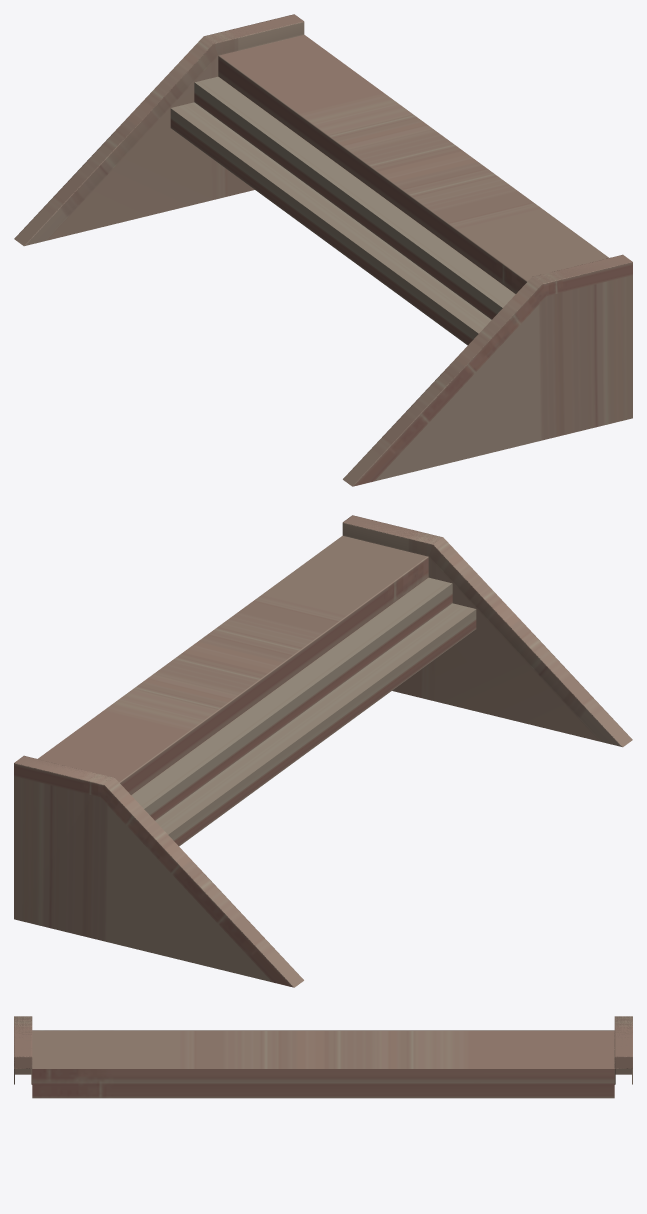
Rendered from objects_un_c03buildporch01.gltf.
3 views of the same model, one above another, from view 1: azimuth 30°, elevation 25°; view 2: azimuth 150°, elevation 25°; view 3: azimuth 270°, elevation 25° (orthographic). The views are drawn at different scales.
Visible parts, largest first — view 1: um_objects_un_c03buildporch01_model_lod0Shape:objects_un_c03 (×2), um_objects_un_c03buildporch01_model_lod1Shape:objects_un_c03, um_objects_un_c03buildporch01_model_lod2Shape:objects_un_c03; view 2: um_objects_un_c03buildporch01_model_lod0Shape:objects_un_c03 (×2), um_objects_un_c03buildporch01_model_lod1Shape:objects_un_c03, um_objects_un_c03buildporch01_model_lod2Shape:objects_un_c03; view 3: um_objects_un_c03buildporch01_model_lod1Shape:objects_un_c03, um_objects_un_c03buildporch01_model_lod0Shape:objects_un_c03.
Part boxes in pixels (bbox=[...]): um_objects_un_c03buildporch01_model_lod0Shape:objects_un_c03 (×2): bbox=[14, 14, 632, 486]; um_objects_un_c03buildporch01_model_lod1Shape:objects_un_c03: bbox=[14, 15, 632, 485]; um_objects_un_c03buildporch01_model_lod2Shape:objects_un_c03: bbox=[45, 24, 632, 486]; um_objects_un_c03buildporch01_model_lod0Shape:objects_un_c03 (×2): bbox=[14, 515, 632, 987]; um_objects_un_c03buildporch01_model_lod1Shape:objects_un_c03: bbox=[14, 517, 632, 987]; um_objects_un_c03buildporch01_model_lod2Shape:objects_un_c03: bbox=[14, 526, 601, 987]; um_objects_un_c03buildporch01_model_lod1Shape:objects_un_c03: bbox=[14, 1016, 632, 1098]; um_objects_un_c03buildporch01_model_lod0Shape:objects_un_c03: bbox=[14, 1016, 632, 1084].
Size of the model in its own units: 3.62 by 1.93 by 7.57.
2 materials, 2 textured.
